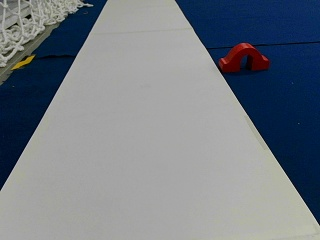bridge: (220, 43, 268, 70)
